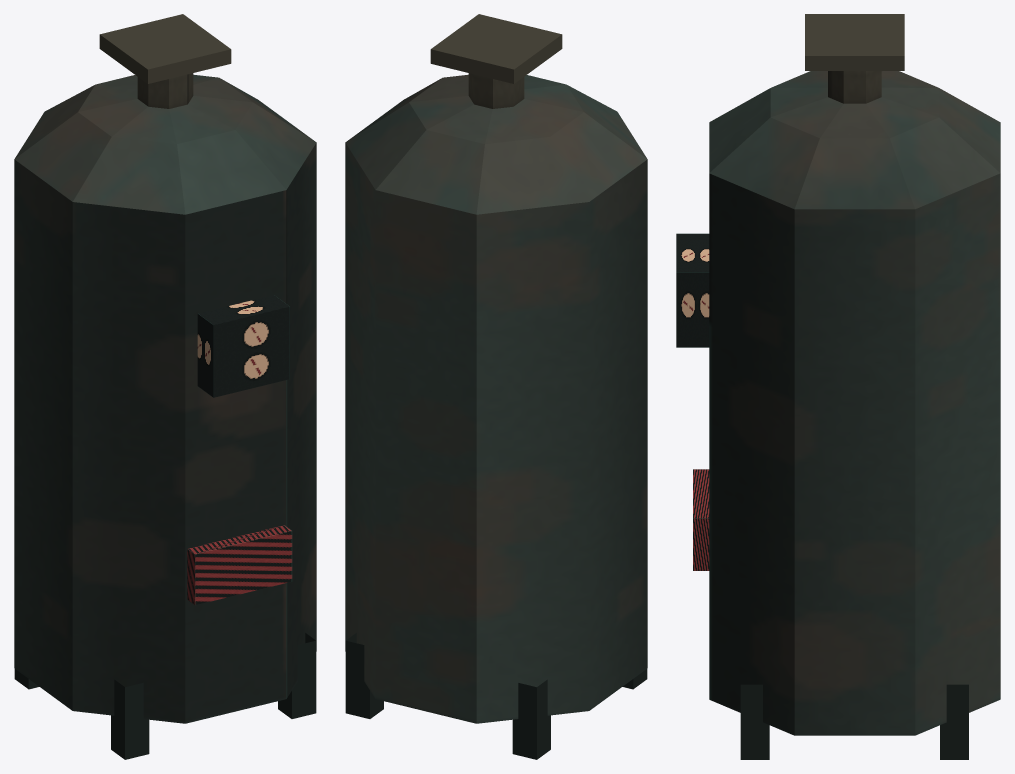
Rendered from SM_MachProp_Tank_Pressure_80x80x180.fbx.
3 renders of one model, left to right at view 1: azimuth 30°, elevation 25°; view 2: azimuth 150°, elevation 25°; view 3: azimuth 270°, elevation 25°, orthographic. The views are drawn at different scales.
Visible parts, largest first — view 1: SM_MachProp_Tank_Pressure_80x80x180.001; view 2: SM_MachProp_Tank_Pressure_80x80x180.001; view 3: SM_MachProp_Tank_Pressure_80x80x180.001.
Part boxes in pixels (<box>): SM_MachProp_Tank_Pressure_80x80x180.001: <box>14,14,316,759</box>; SM_MachProp_Tank_Pressure_80x80x180.001: <box>345,14,647,759</box>; SM_MachProp_Tank_Pressure_80x80x180.001: <box>676,14,1000,759</box>.
Bounding box in the file's own units: 0.7021 × 1.8 × 0.7811.
